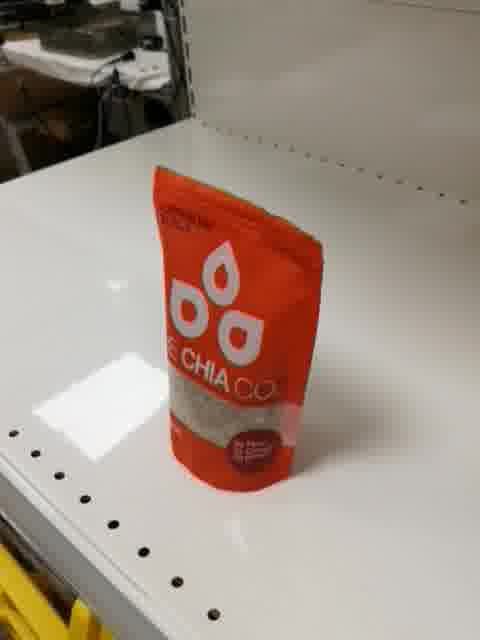whitechia: (152, 156, 326, 494)
